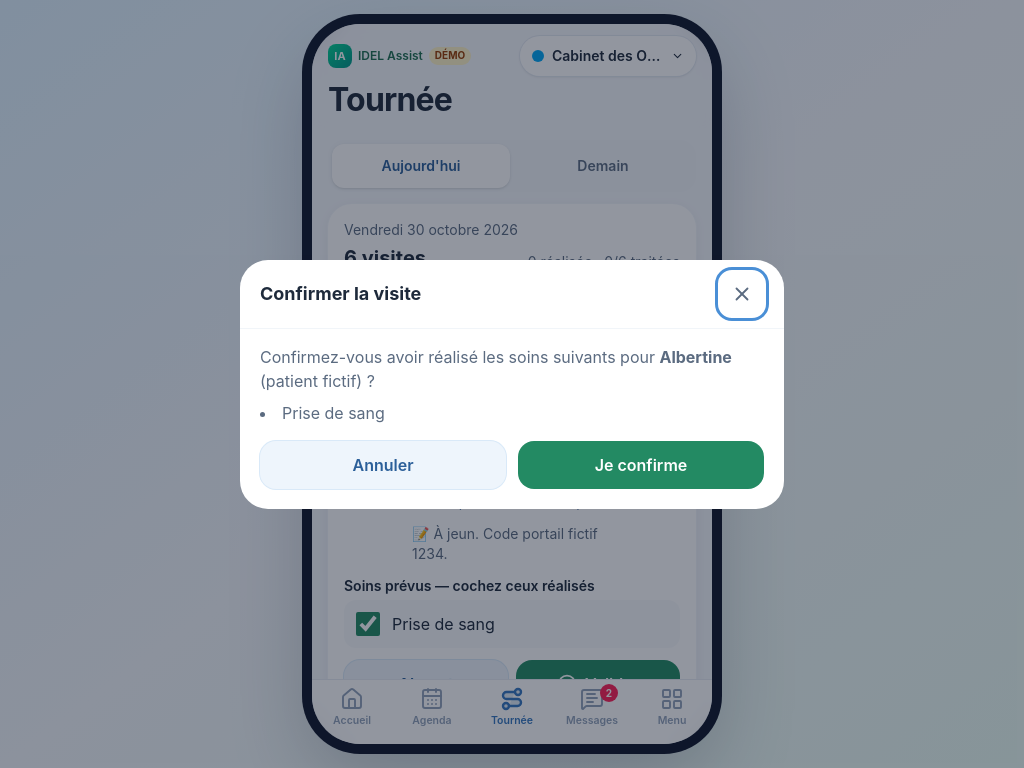
Test: application › dans la tournée, le bouton Valider reste désactivé tant que les soins ne sont pas cochés
Earlier steps of the test are not shown.
Click the button "Je confirme" at (641, 464), box [518, 440, 764, 488]
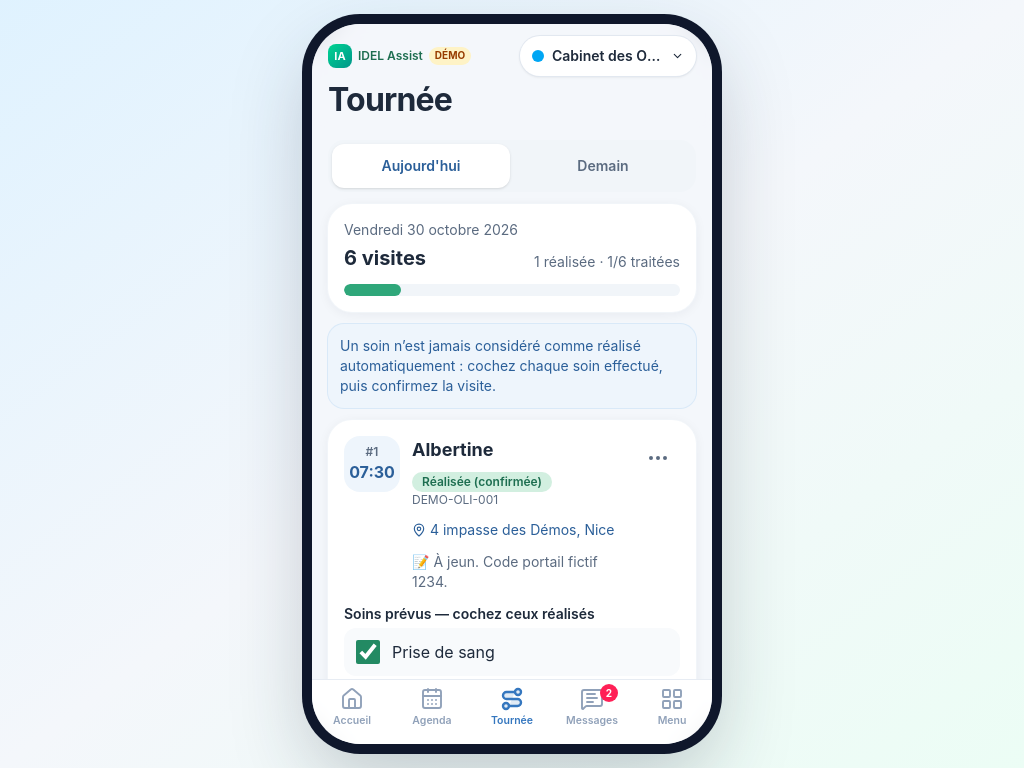
Expected: the text "Réalisée (confirmée)" is shown, [412, 472, 552, 492]
